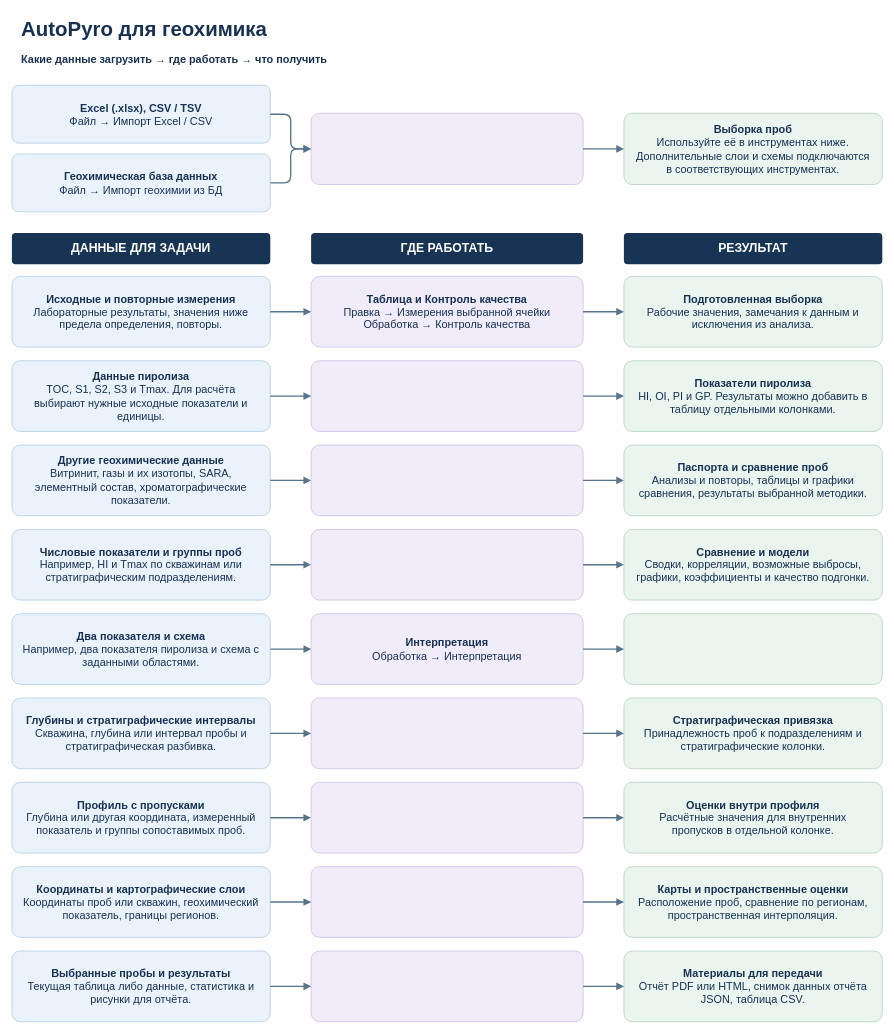
The diagram is 894 pixels wide and 1034 high, and some of its shapes have lost their labels. The shapes that lost their labels are listed below. From the top down, each one's centre as x and y in pixels, then its label:
point (446, 149): Таблица Выберите пробы по скважине, глубине, интервалу или другим колонкам.
point (446, 395): Расчёты пиролиза Обработка → Расчёты пиролиза
point (446, 480): Геохимия Обработка → Геохимия → Паспорта и сравнение проб или нужная методика
point (446, 564): Статистика, Графики, Подгонка кривых Команды в меню «Обработка»
point (752, 648): Классификация проб Положение проб на схеме и принадлежность к её областям.
point (446, 733): Стратиграфия Обработка → Стратиграфия
point (446, 817): Интерполяция Обработка → Интерполяция
point (446, 901): Карты Обработка → Карты
point (446, 986): Отчёт и экспорт Файл → Отчёт Файл → Экспорт текущего представления
